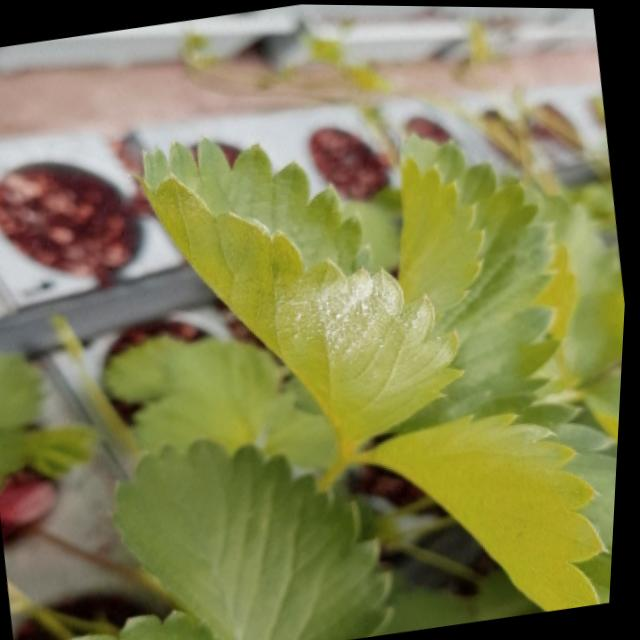Powdery Mildew Leaf: (134, 135, 473, 443)
